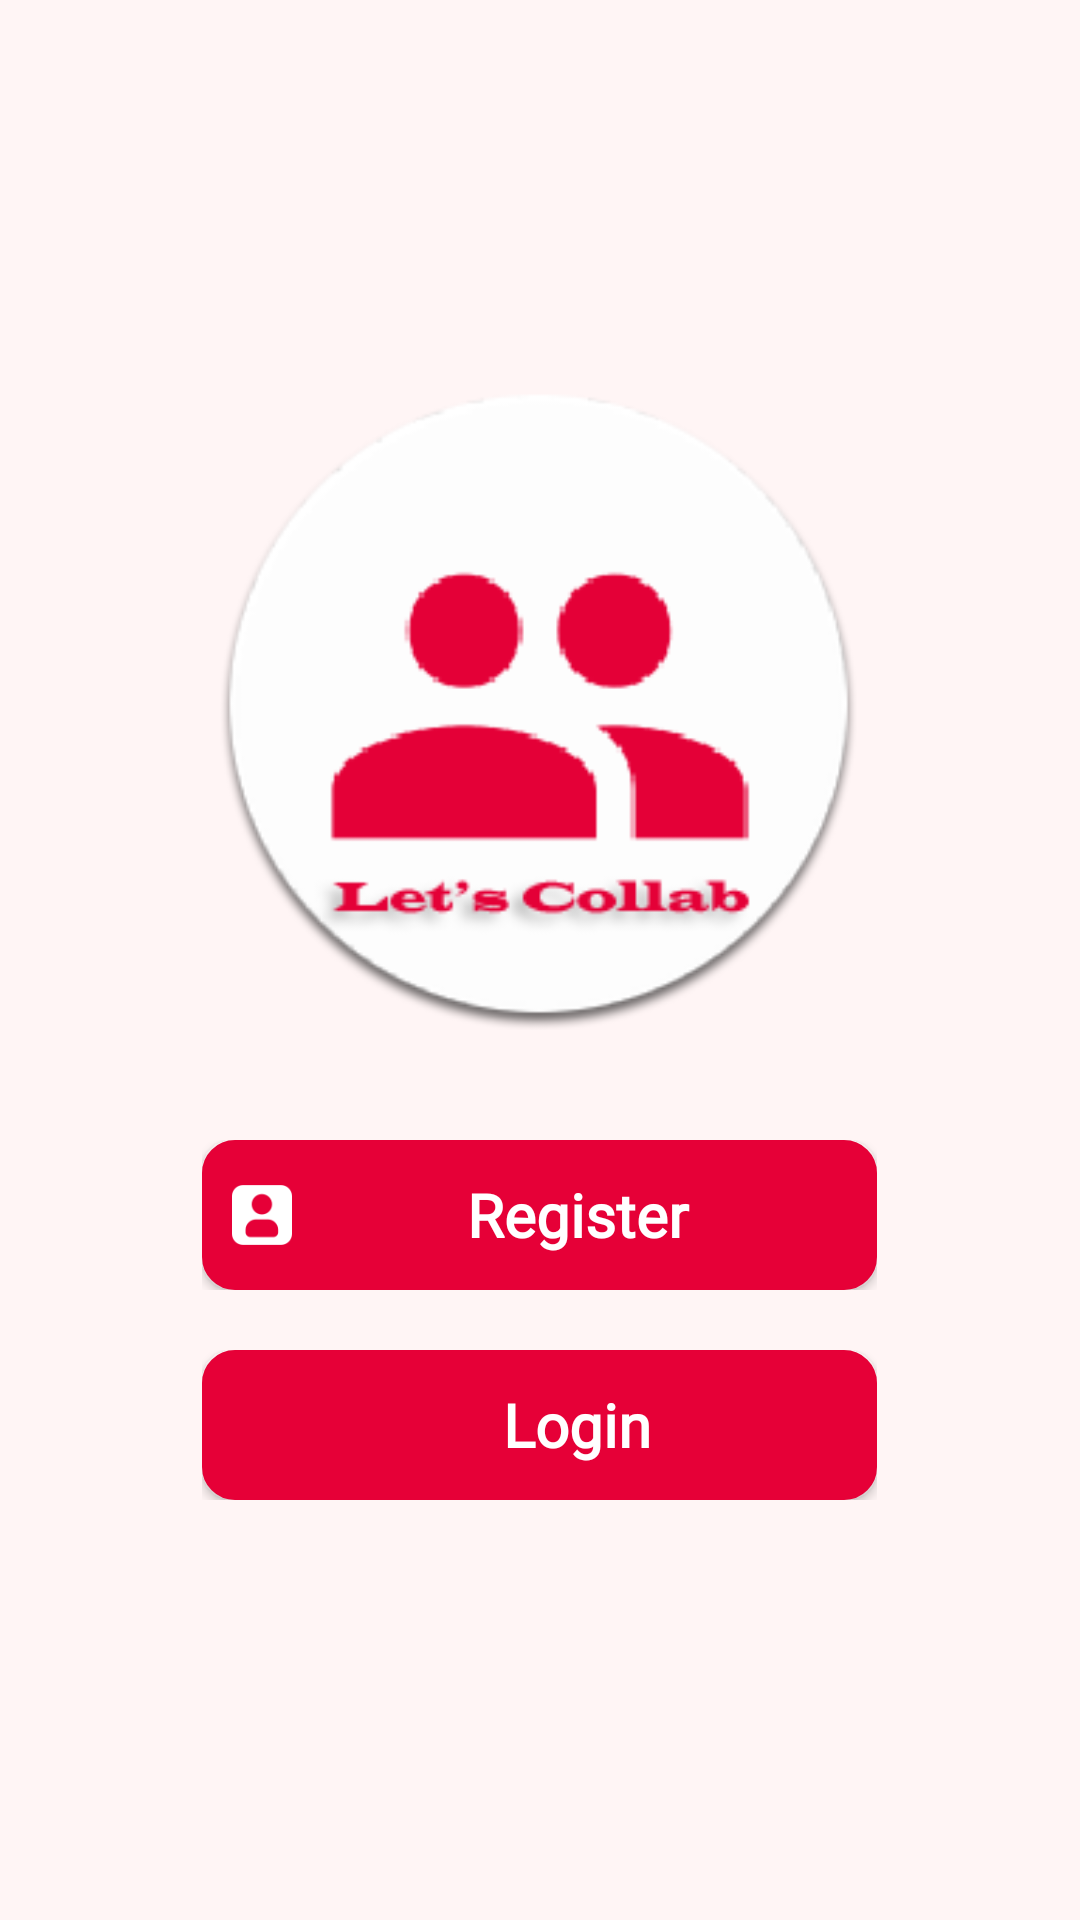

Icon bounding boxes for this 1080px×1920px phone screenshot, format bbox=(x1, y1, x2, y2):
user: bbox=(232, 1185, 292, 1245)
